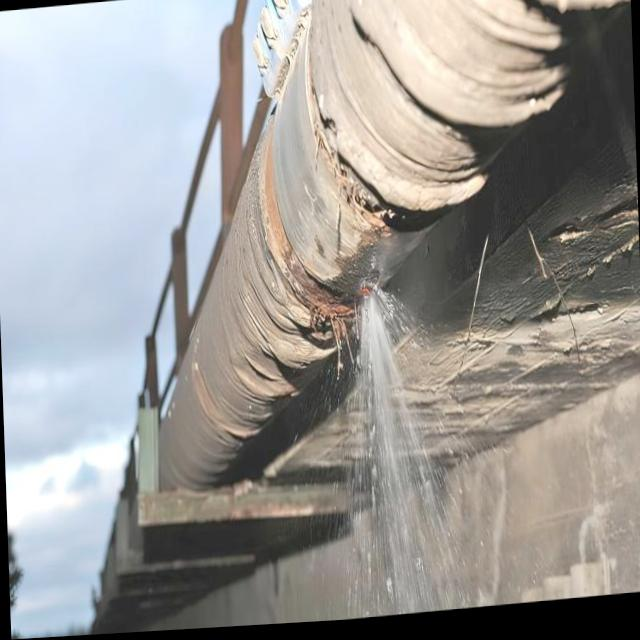leak: (327, 276, 561, 620)
